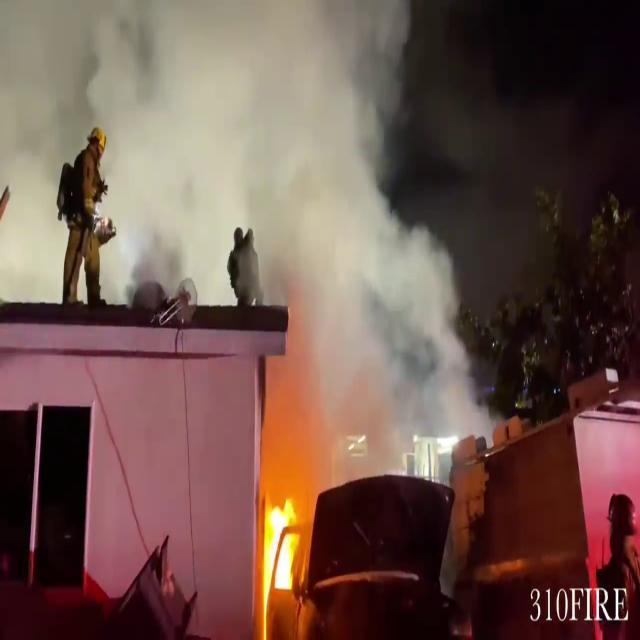Fire: (258, 487, 303, 632)
Smoke: (2, 0, 494, 459)
